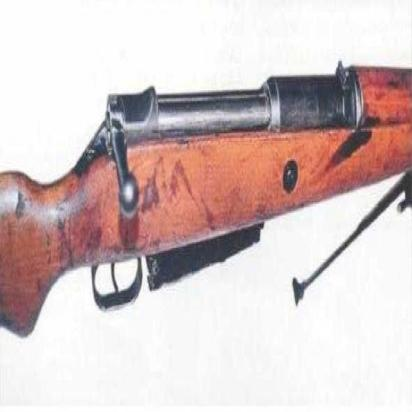Gun: (0, 51, 412, 360)
